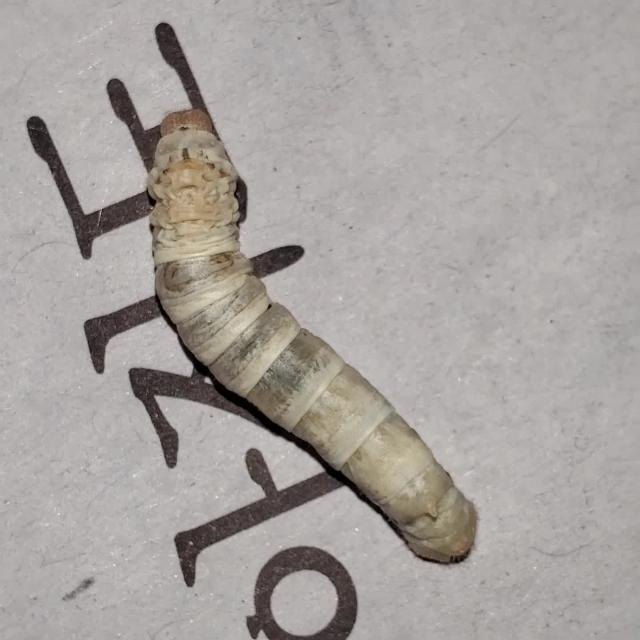Grasserie: (104, 79, 496, 579)
